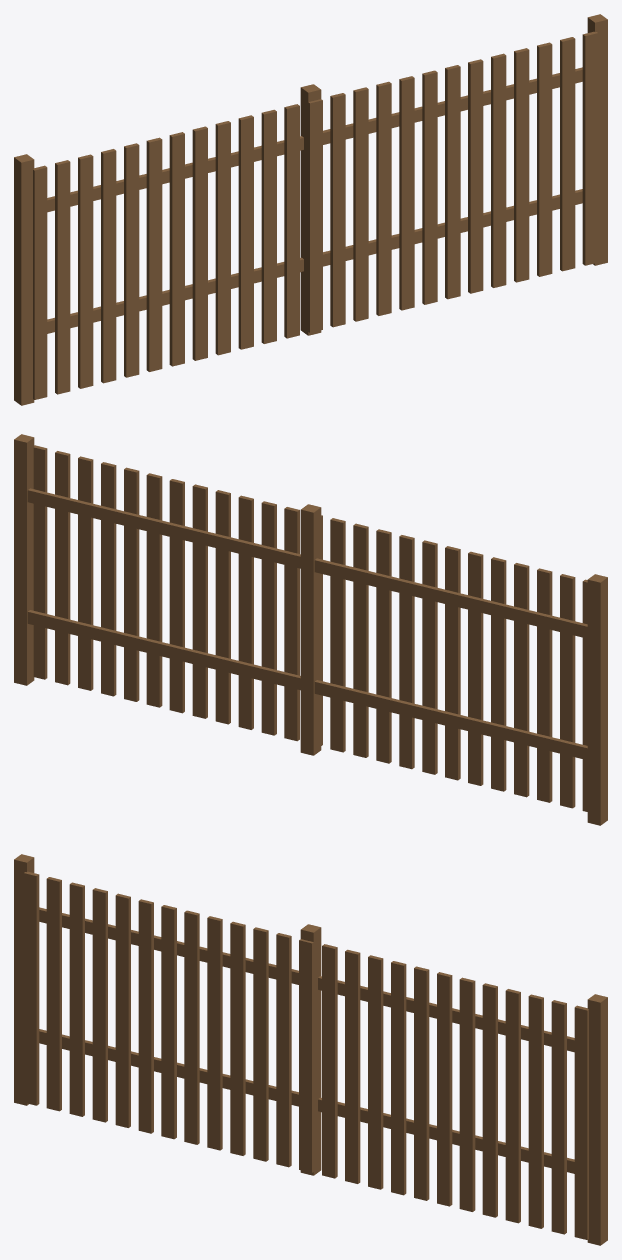
Rendered from fence-picket.glb.
3 views of the same model, one above another, from view 1: azimuth 30°, elevation 25°; view 2: azimuth 150°, elevation 25°; view 3: azimuth 330°, elevation 25° (orthographic).
Visible parts, largest first — view 1: fence-picket; view 2: fence-picket; view 3: fence-picket.
Part boxes in pixels (box(x1,y1,x2,y2)): fence-picket: box(14, 14, 607, 405); fence-picket: box(14, 434, 607, 825); fence-picket: box(14, 854, 607, 1245).
Size of the model in its own units: 4.09 by 1.62 by 0.11.
